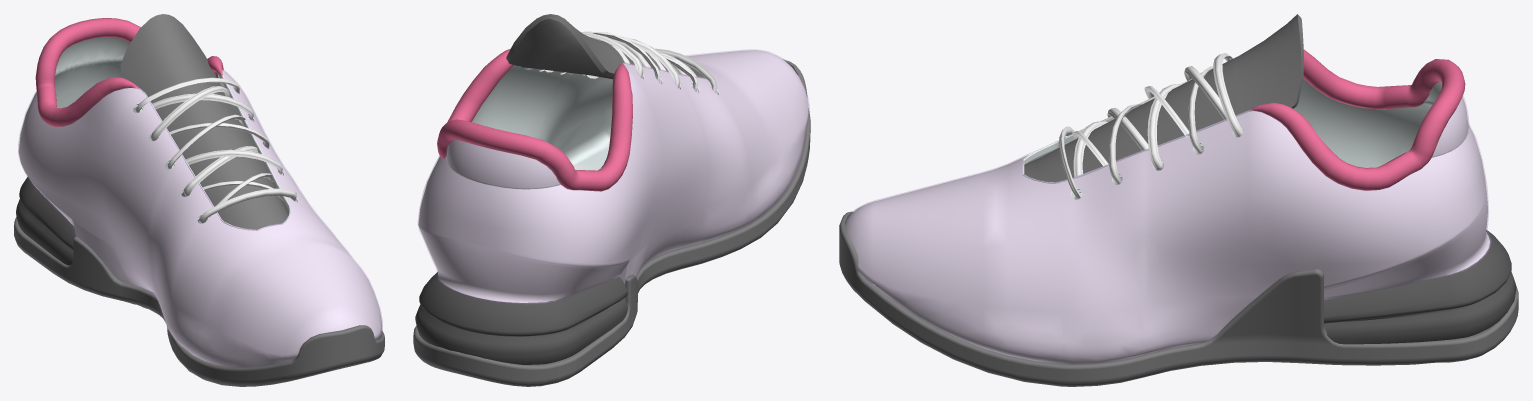
File: Sneakers02-C.gltf
3 renders of one model, left to right at view 1: azimuth 30°, elevation 25°; view 2: azimuth 150°, elevation 25°; view 3: azimuth 270°, elevation 25°, orthographic. The views are drawn at different scales.
Parts seen in each view (by area): view 1: 外薄殼, 鞋皮, 上掀蓋, 鞋底, 小飾, 內側, 後飾, CloseSurface.8(8), CloseSurface.8(5), CloseSurface.8(1), CloseSurface.8(6), CloseSurface.8(3) (+3 smaller); view 2: 外薄殼, 鞋皮, 後飾, 內側, 鞋底, 小飾, 上掀蓋, CloseSurface.8(5), CloseSurface.8(8), CloseSurface.8(7), CloseSurface.8(1); view 3: 外薄殼, 鞋皮, 鞋底, 後飾, 上掀蓋, 小飾, 內側, CloseSurface.8(8), CloseSurface.8(5), CloseSurface.8(2), CloseSurface.8(6), CloseSurface.8(1).
Part boxes in pixels (x1,y1,x2,y2): 外薄殼: (18, 69, 382, 367); 鞋皮: (18, 70, 381, 367); 上掀蓋: (120, 14, 288, 229); 鞋底: (14, 217, 384, 386); 小飾: (35, 18, 223, 126); 內側: (54, 37, 296, 230); 後飾: (16, 176, 76, 265); CloseSurface.8(8): (135, 77, 253, 120); CloseSurface.8(5): (198, 173, 296, 223); CloseSurface.8(1): (151, 86, 229, 140); CloseSurface.8(6): (168, 149, 282, 174); CloseSurface.8(3): (183, 146, 258, 195); 外薄殼: (418, 49, 809, 304); 鞋皮: (418, 50, 808, 302); 後飾: (415, 272, 628, 364); 內側: (472, 63, 717, 170); 鞋底: (413, 59, 810, 386); 小飾: (437, 49, 632, 191); 上掀蓋: (506, 14, 705, 79); CloseSurface.8(5): (587, 48, 717, 93); CloseSurface.8(8): (581, 32, 643, 78); CloseSurface.8(7): (544, 36, 680, 88); CloseSurface.8(1): (524, 31, 660, 82); 外薄殼: (845, 95, 1491, 364); 鞋皮: (845, 79, 1490, 364); 鞋底: (839, 211, 1518, 386); 後飾: (1324, 230, 1516, 344); 上掀蓋: (1024, 14, 1303, 182); 小飾: (1249, 49, 1465, 190); 內側: (1022, 78, 1441, 199); CloseSurface.8(8): (1188, 53, 1243, 152); CloseSurface.8(5): (1059, 126, 1121, 197); CloseSurface.8(2): (1147, 83, 1182, 168); CloseSurface.8(6): (1108, 103, 1143, 182); CloseSurface.8(1): (1184, 66, 1239, 137).
Size of the model in its own units: 23.18 by 30.05 by 58.85.
